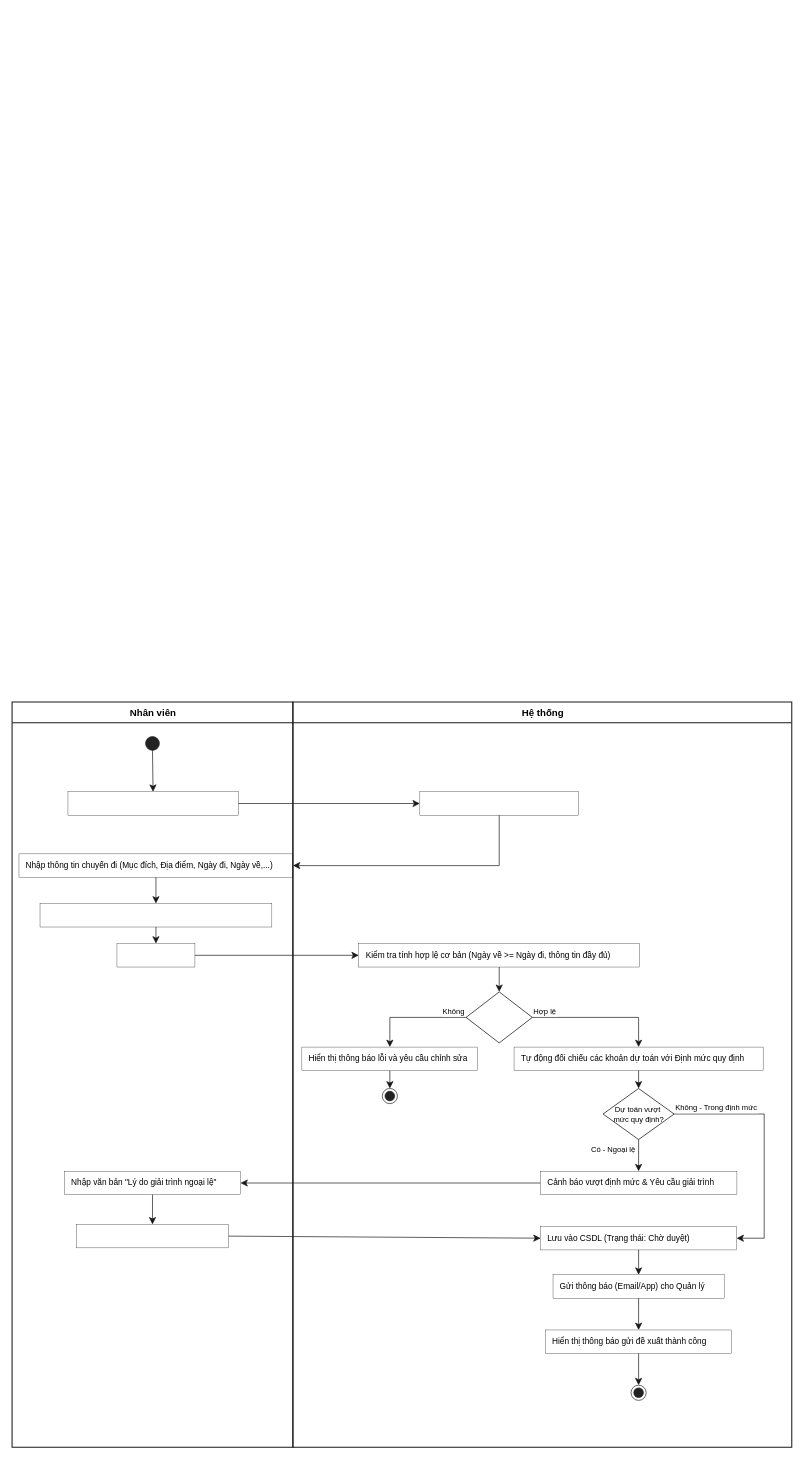
Image size: 805x1459. Some labels were removed from this diagram. The shapes that lost their labels are listed below. From the top down, each one's centre as x and y in pixels, then its label:
point 152,803: Chọn chức năng "Lập đề xuất công tác"
point 498,803: Hiển thị form lập đề xuất & dự toán
point 156,915: Kê khai các khoản chi dự toán & Mức tạm ứng đề nghị
point 155,955: Bấm "Gửi duyệt"
point 498,1017: Thông tin hợp lệ?
point 152,1236: Bấm "Xác nhận gửi kèm giải trình"
